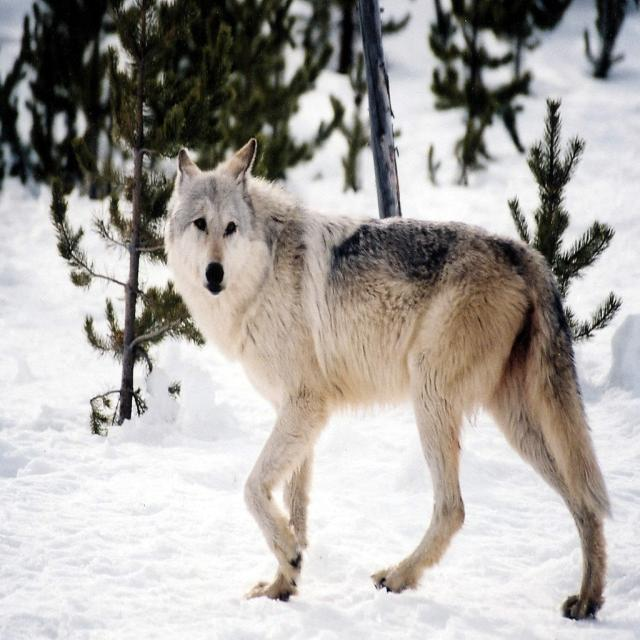wolf: (165, 139, 609, 618)
